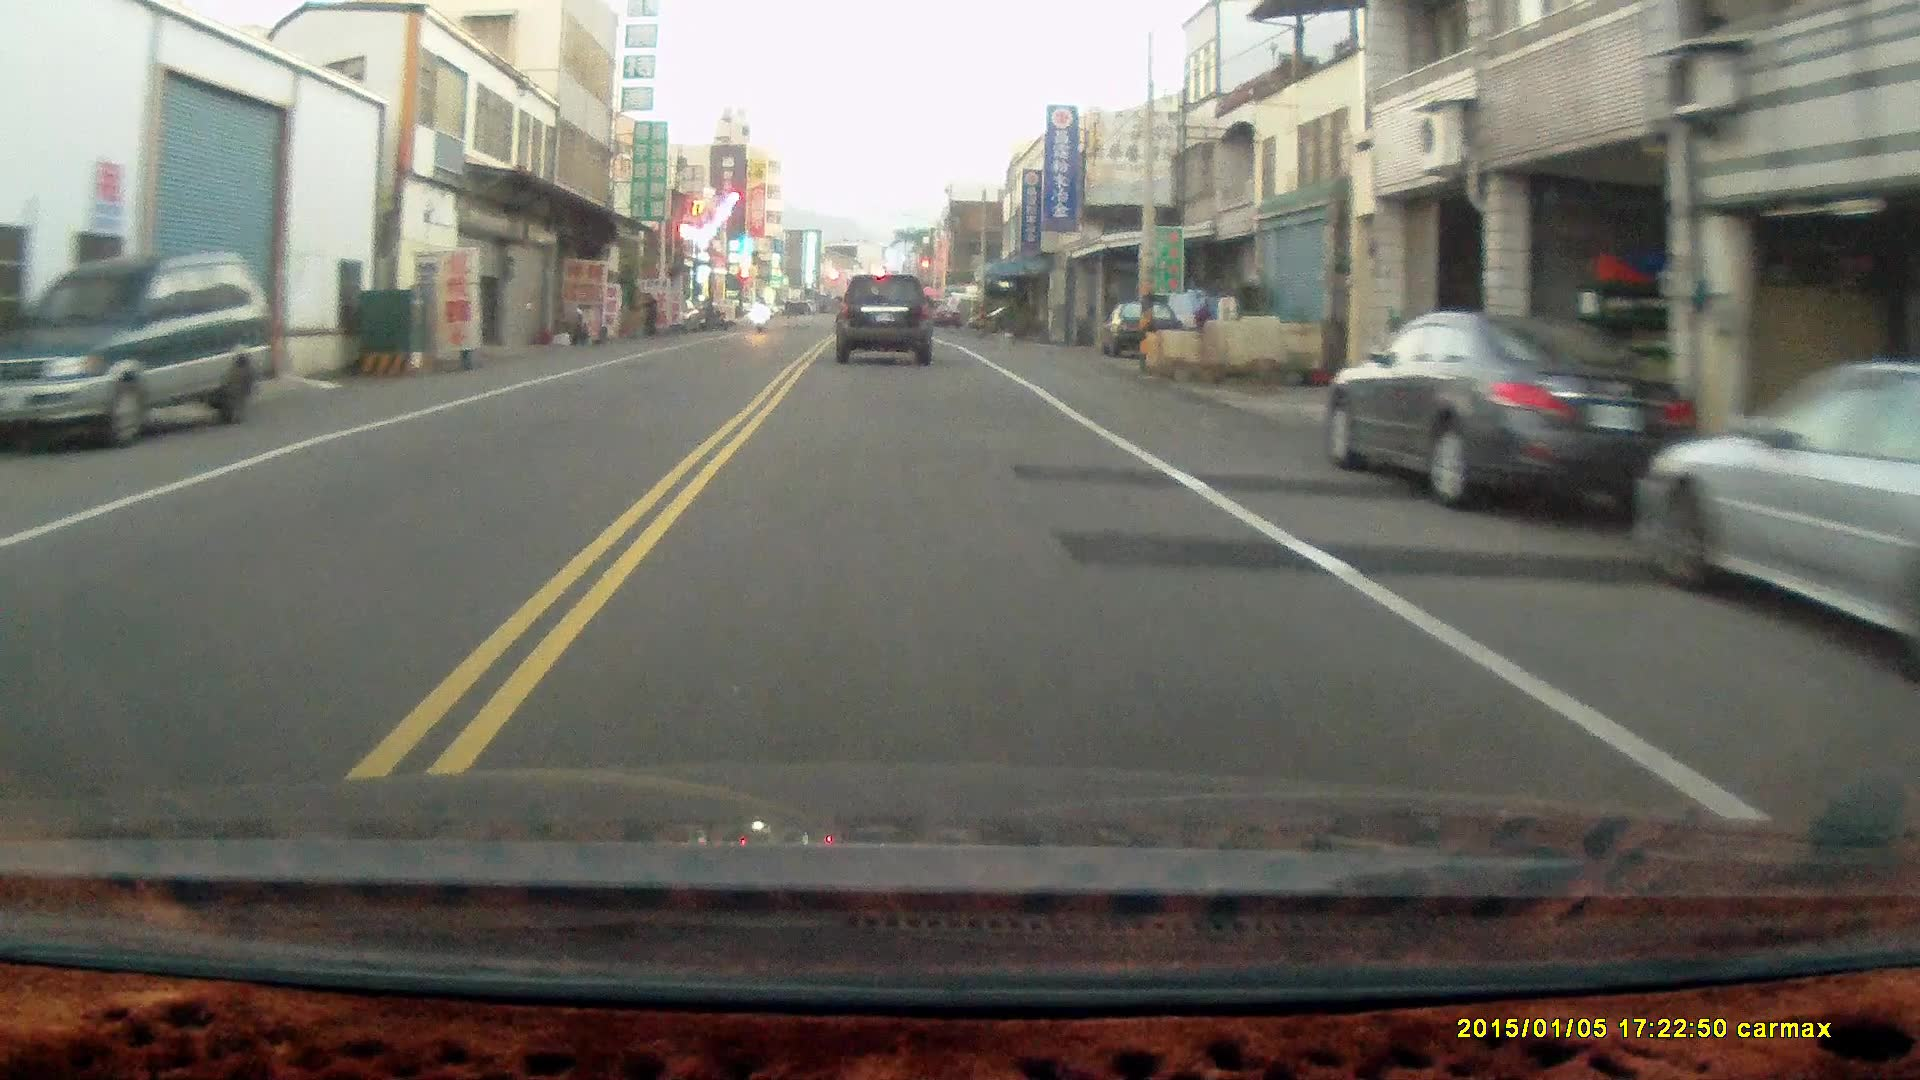pedestrian: (639, 287, 659, 335)
vehicle: (1631, 361, 1920, 677), (1326, 309, 1701, 509), (5, 244, 282, 447), (835, 270, 935, 364), (1101, 301, 1183, 359)
